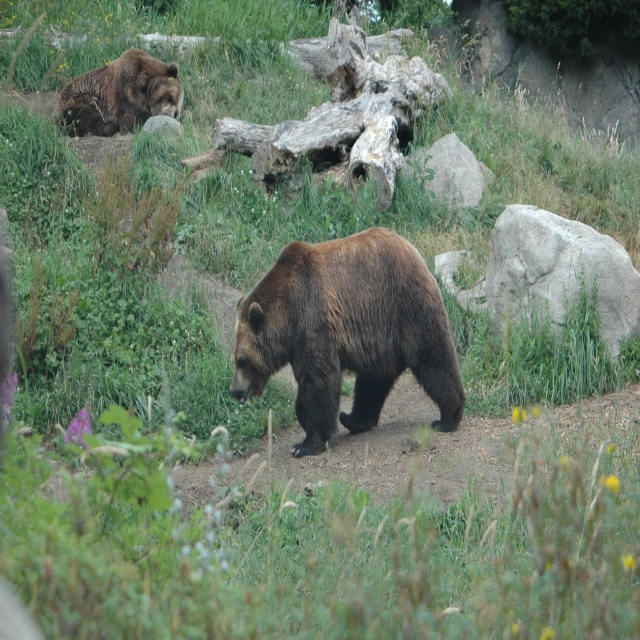Brown bear: (228, 226, 467, 458), (51, 48, 184, 137)
